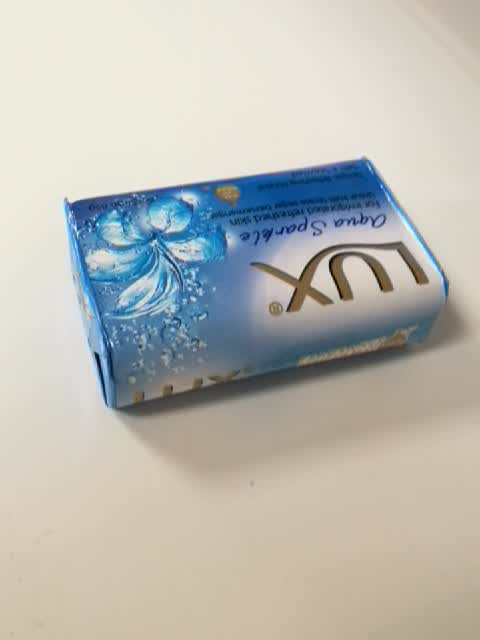soap: (61, 154, 452, 410)
